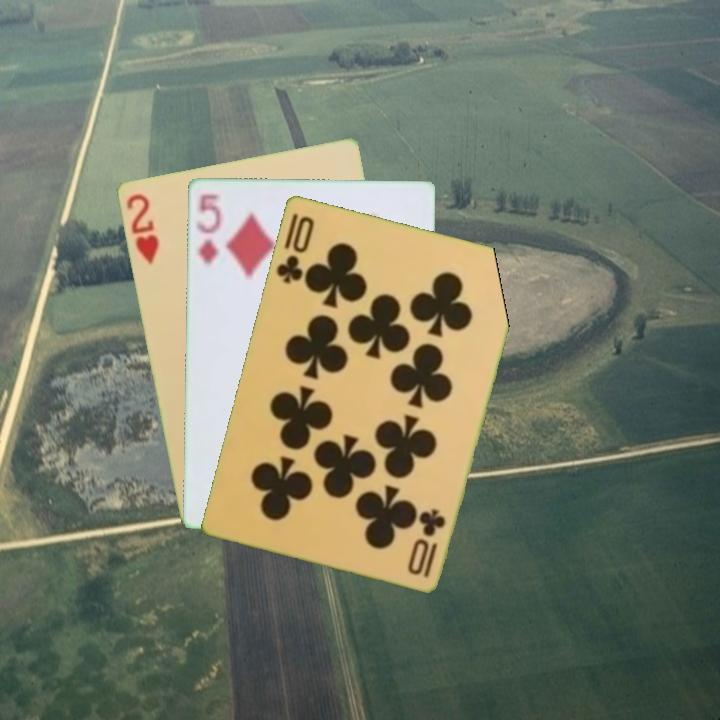10c: (272, 209, 317, 286), (405, 504, 448, 581)
2h: (122, 189, 161, 267)
5d: (193, 190, 223, 267)
